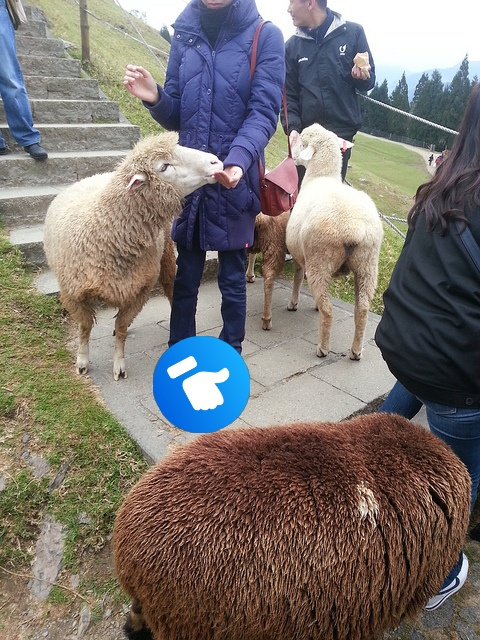like: (153, 336, 250, 433)
